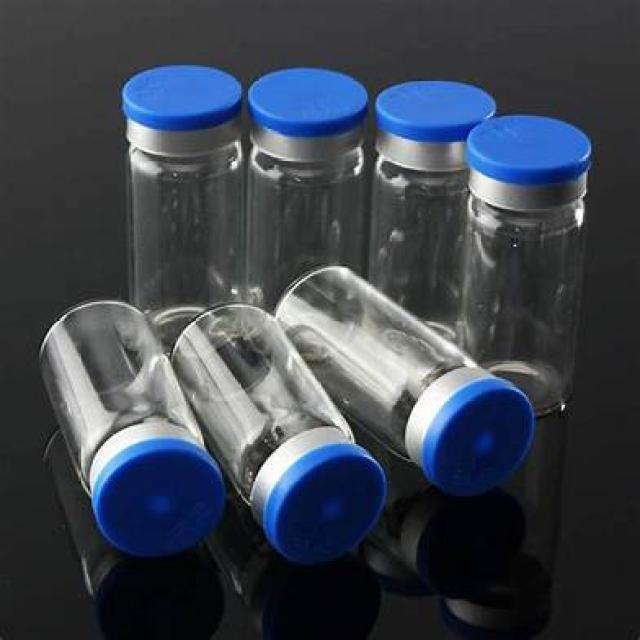vial: (283, 430, 400, 548), (94, 447, 232, 531), (436, 392, 542, 494), (468, 106, 612, 181), (246, 67, 386, 133), (117, 62, 245, 130), (377, 74, 497, 144)
